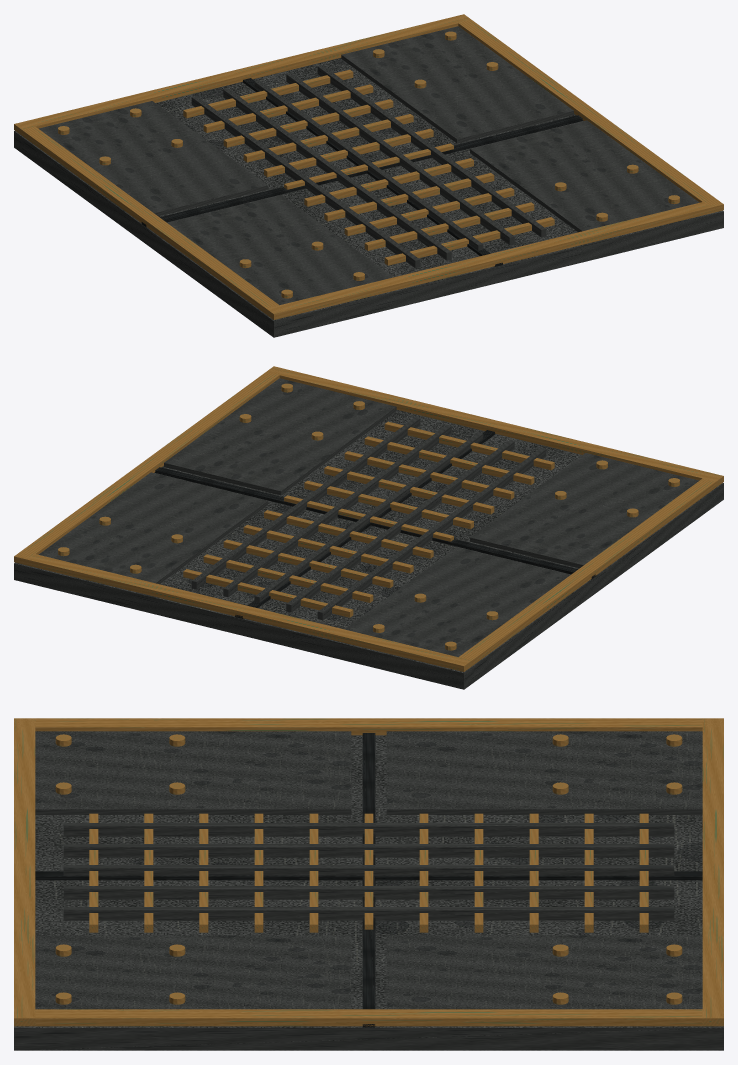
File: SM_FloorTile_GrateSeams_4m.obj
3 views of the same model, one above another, from view 1: azimuth 30°, elevation 25°; view 2: azimuth 150°, elevation 25°; view 3: azimuth 270°, elevation 25° (orthographic). The views are drawn at different scales.
Parts seen in each view (by area): view 1: Raised_FloorPlates, Iron_BaseSlab, Brass_EdgeTrim, Brass_GrateCrossBars, Iron_GrateLongBars, OilDark_PlateSeams, Brass_FloorRivets; view 2: Raised_FloorPlates, Iron_BaseSlab, Brass_EdgeTrim, Brass_GrateCrossBars, Iron_GrateLongBars, OilDark_PlateSeams, Brass_FloorRivets; view 3: Raised_FloorPlates, Iron_BaseSlab, Iron_GrateLongBars, Brass_EdgeTrim, Brass_GrateCrossBars, OilDark_PlateSeams, Brass_FloorRivets.
Part boxes in pixels (left/top/right/bottom): Raised_FloorPlates: left=39, top=26, right=699, bottom=305; Iron_BaseSlab: left=14, top=58, right=723, bottom=337; Brass_EdgeTrim: left=14, top=14, right=723, bottom=319; Brass_GrateCrossBars: left=183, top=69, right=554, bottom=265; Iron_GrateLongBars: left=191, top=65, right=546, bottom=268; OilDark_PlateSeams: left=141, top=78, right=583, bottom=266; Brass_FloorRivets: left=58, top=31, right=679, bottom=298; Raised_FloorPlates: left=38, top=378, right=698, bottom=657; Iron_BaseSlab: left=14, top=410, right=723, bottom=689; Brass_EdgeTrim: left=14, top=366, right=723, bottom=671; Brass_GrateCrossBars: left=183, top=421, right=554, bottom=617; Iron_GrateLongBars: left=191, top=417, right=546, bottom=620; OilDark_PlateSeams: left=154, top=430, right=596, bottom=618; Brass_FloorRivets: left=58, top=383, right=679, bottom=650; Raised_FloorPlates: left=35, top=731, right=702, bottom=1009; Iron_BaseSlab: left=14, top=735, right=723, bottom=1050; Iron_GrateLongBars: left=63, top=823, right=674, bottom=920; Brass_EdgeTrim: left=14, top=718, right=723, bottom=1026; Brass_GrateCrossBars: left=89, top=813, right=648, bottom=932; OilDark_PlateSeams: left=35, top=733, right=702, bottom=1027; Brass_FloorRivets: left=55, top=734, right=682, bottom=1004.
Size of the model in its own units: 4 by 0.21 by 4.
3 materials, 3 textured.
